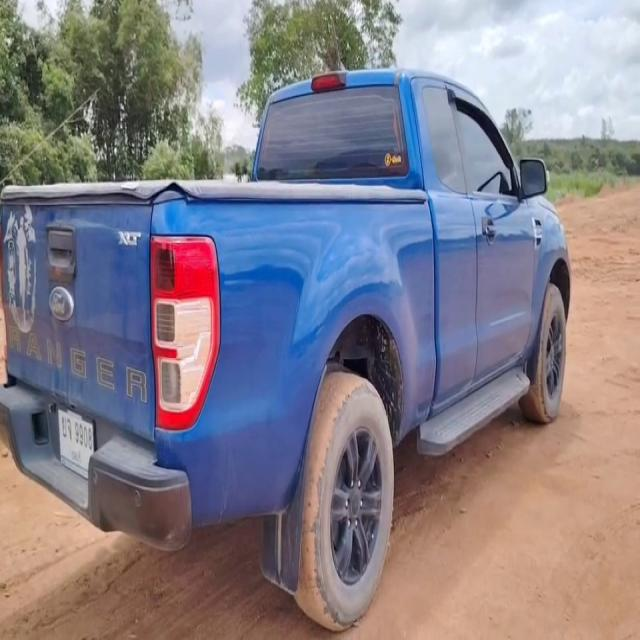Digit: (75, 420, 93, 451)
Licenseplate: (57, 405, 97, 485)
Provincename: (71, 446, 83, 469)
Thaichar: (61, 414, 73, 442)
